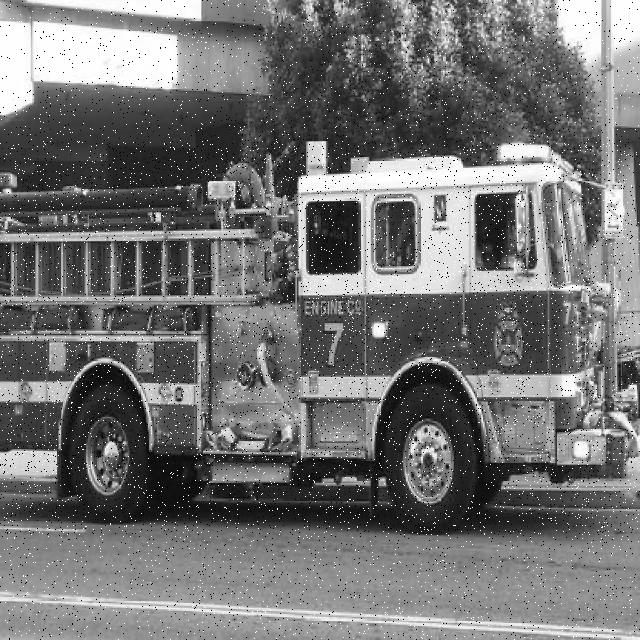Fire Truck: (0, 141, 633, 535)
